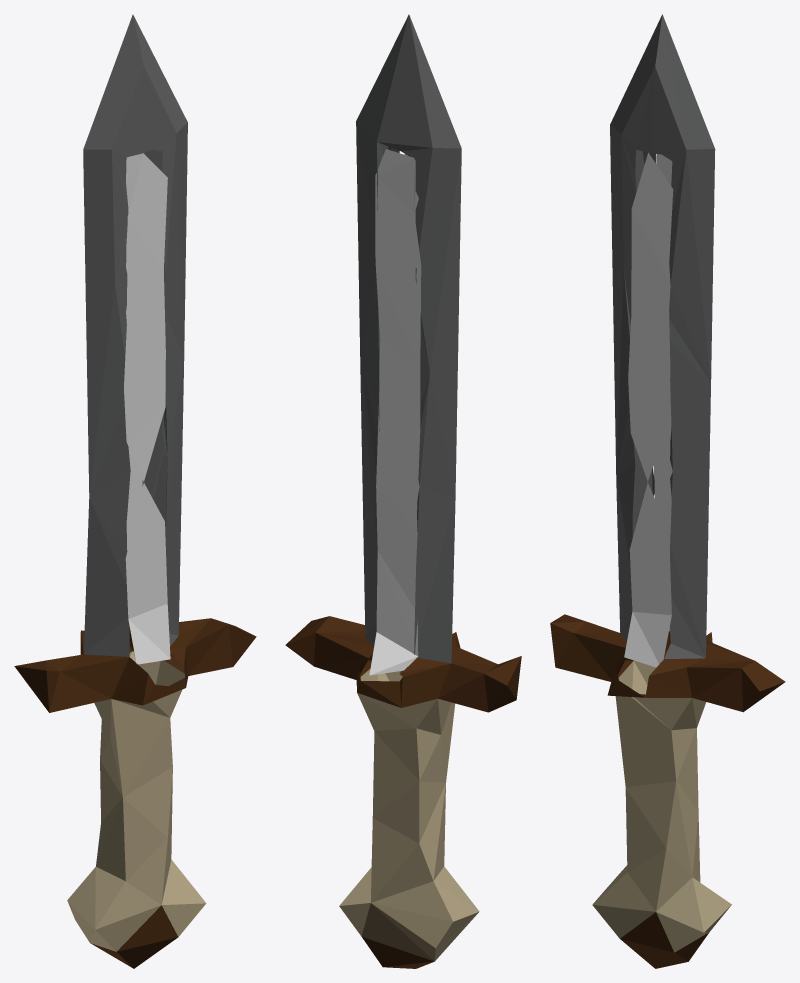
The model's file is aithrall_sword.glb.
The picture shows the model from 3 angles, left to right: view 1: azimuth 30°, elevation 25°; view 2: azimuth 150°, elevation 25°; view 3: azimuth 330°, elevation 25°; orthographic projection.
Visible parts, largest first — view 1: ca_aithrall_sword; view 2: ca_aithrall_sword; view 3: ca_aithrall_sword.
Part boxes in pixels (x1,y1,x2,y2): ca_aithrall_sword: (14, 14, 256, 968); ca_aithrall_sword: (285, 14, 521, 968); ca_aithrall_sword: (550, 14, 785, 968).
Size of the model in its own units: 0.2424 by 0.9987 by 0.1243.
